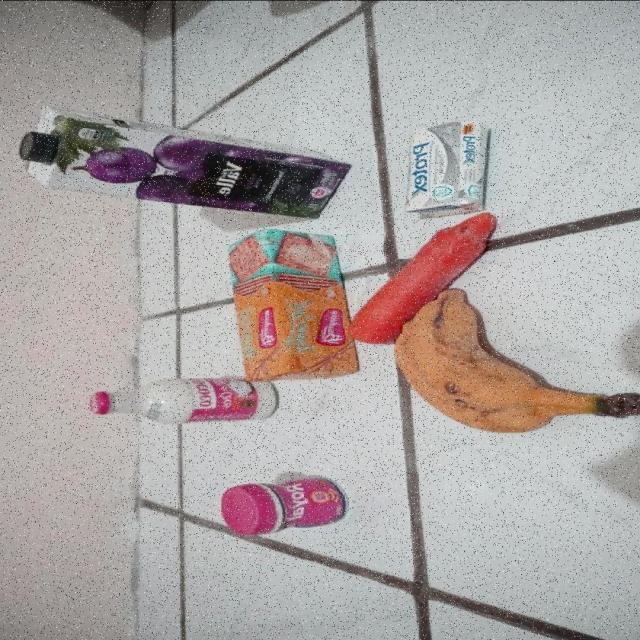Banana: (394, 288, 640, 434)
Carrot: (348, 213, 495, 344)
CoconutMilk: (89, 378, 279, 424)
Cracker: (227, 228, 361, 382)
Soap: (404, 120, 490, 217)
Yeast: (220, 480, 349, 535)
